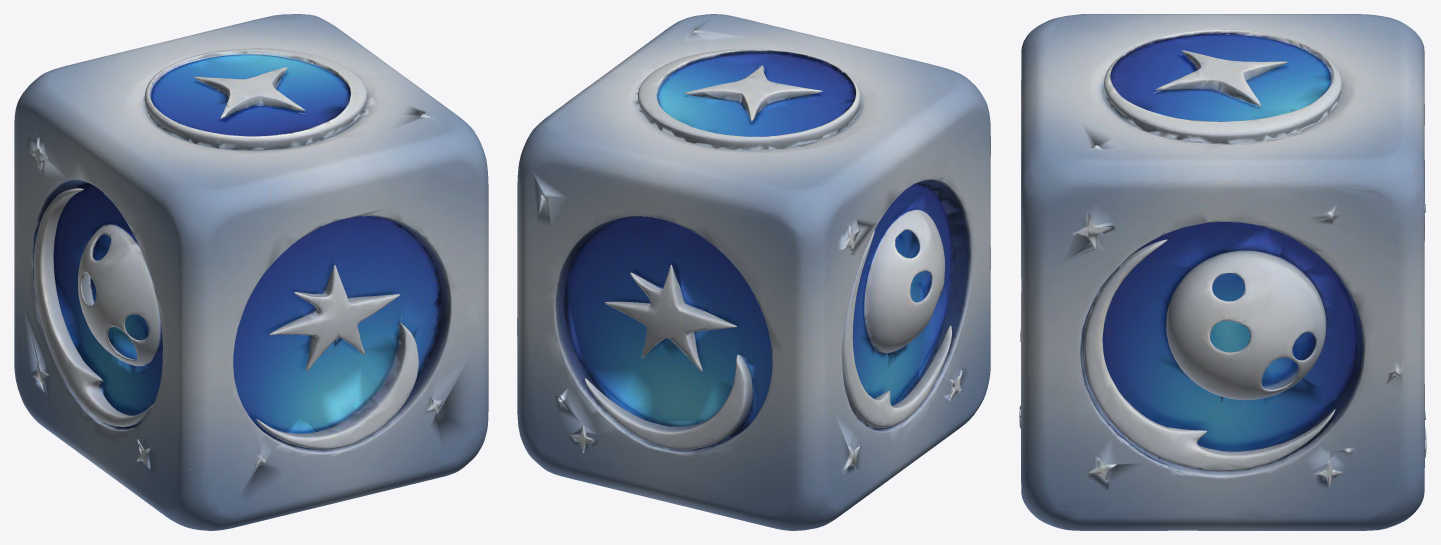
The model's file is moon.glb.
3 views of the same model, side by side, from view 1: azimuth 30°, elevation 25°; view 2: azimuth 150°, elevation 25°; view 3: azimuth 270°, elevation 25° (orthographic). The views are drawn at different scales.
Visible parts, largest first — view 1: tripo_node_1d35ec14-207a-4f86-81d4-66e1c1026da5; view 2: tripo_node_1d35ec14-207a-4f86-81d4-66e1c1026da5; view 3: tripo_node_1d35ec14-207a-4f86-81d4-66e1c1026da5.
Part boxes in pixels (x1,y1,x2,y2): tripo_node_1d35ec14-207a-4f86-81d4-66e1c1026da5: (14, 14, 488, 530); tripo_node_1d35ec14-207a-4f86-81d4-66e1c1026da5: (517, 14, 990, 530); tripo_node_1d35ec14-207a-4f86-81d4-66e1c1026da5: (1019, 14, 1426, 530).
Size of the model in its own units: 0.9756 by 0.9807 by 0.923.
1 material, 1 textured.
